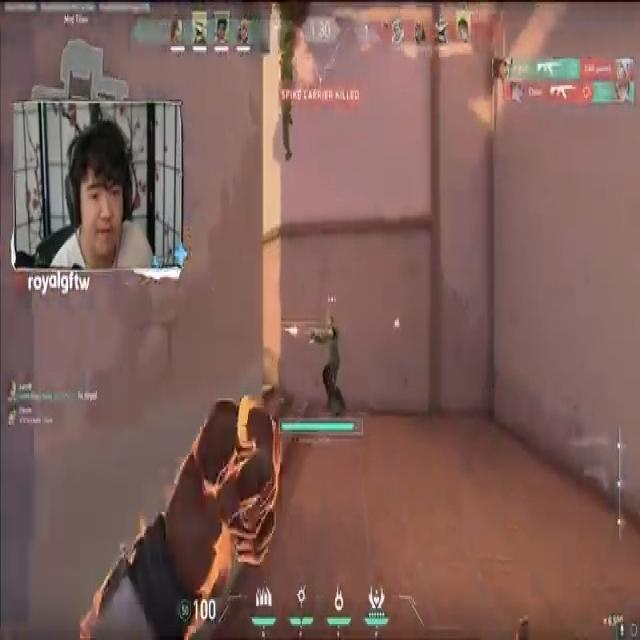ally: (303, 293, 356, 420)
